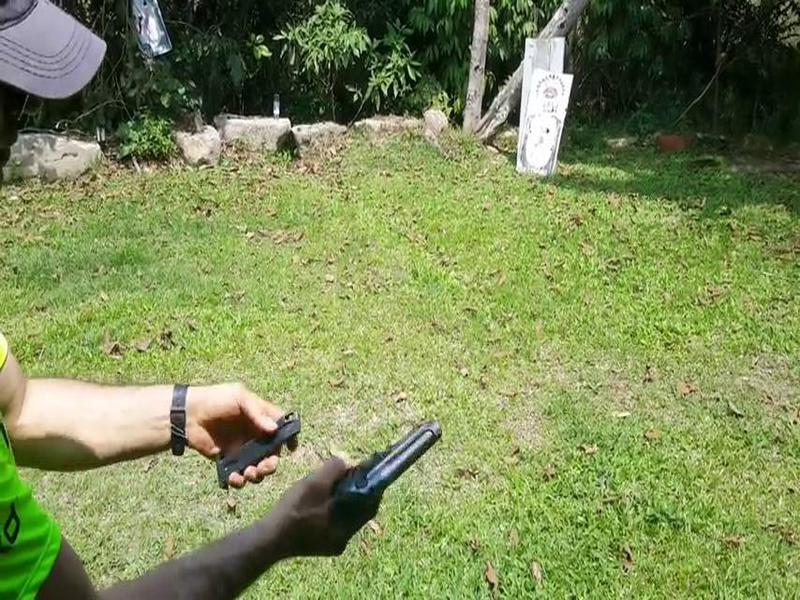Pistola: (319, 395, 457, 499)
